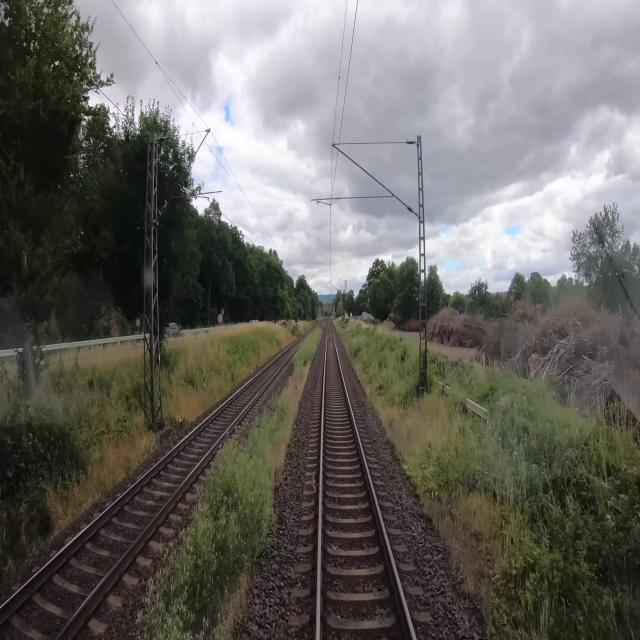Plant: (133, 326, 322, 639)
